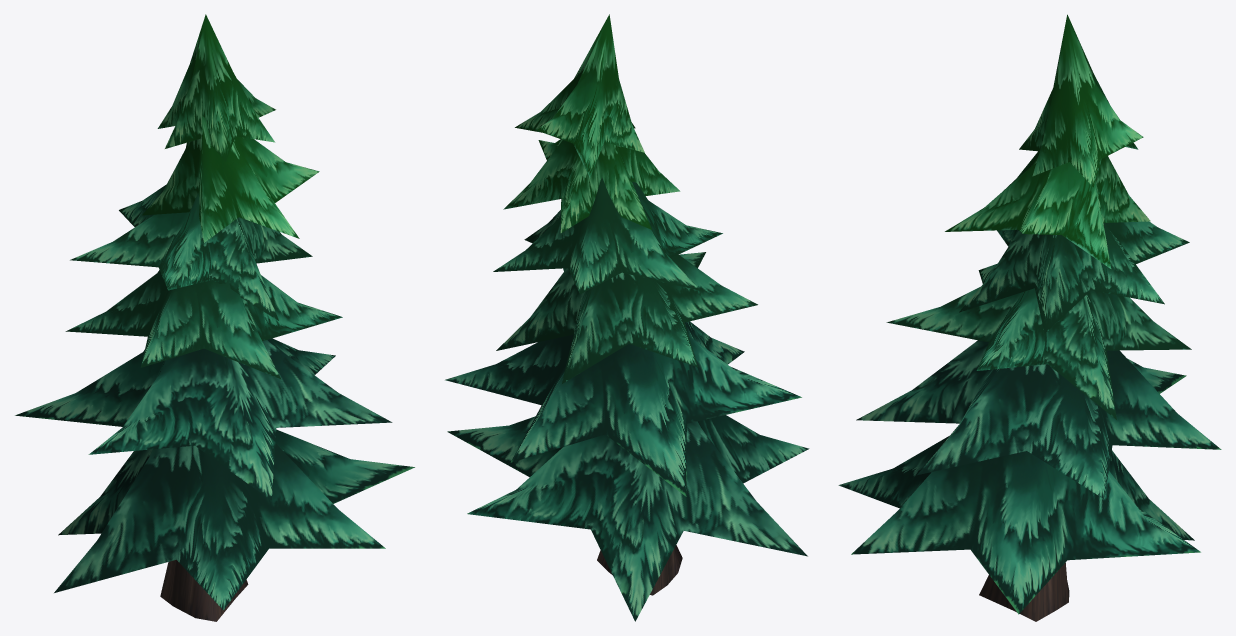
File: Nspruce_3_2.fbx
The picture shows the model from 3 angles, left to right: view 1: azimuth 30°, elevation 25°; view 2: azimuth 150°, elevation 25°; view 3: azimuth 270°, elevation 25°; orthographic projection. The views are drawn at different scales.
Visible parts, largest first — view 1: Nspruce_3_2; view 2: Nspruce_3_2; view 3: Nspruce_3_2.
Boxes of the visible parts, x1,y1,x2,y2 form: Nspruce_3_2: (15, 14, 414, 621); Nspruce_3_2: (445, 14, 809, 621); Nspruce_3_2: (838, 14, 1221, 621).
Bounding box in the file's own units: 174 × 263 × 152.
